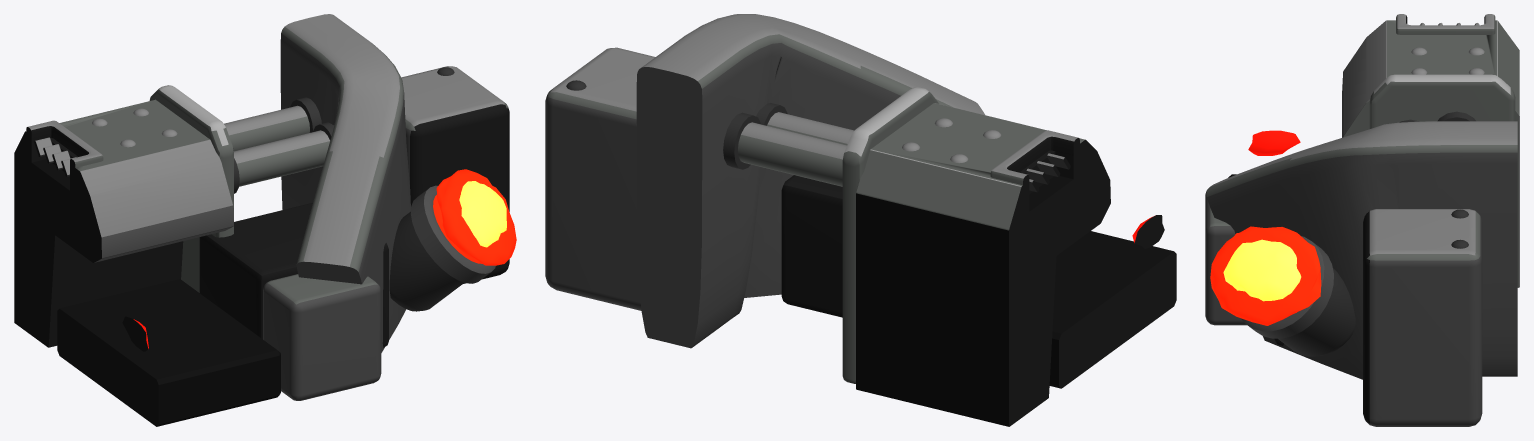
Rendered from jaw_gun_a_right_235.glb.
3 renders of one model, left to right at view 1: azimuth 30°, elevation 25°; view 2: azimuth 150°, elevation 25°; view 3: azimuth 270°, elevation 25°, orthographic. The views are drawn at different scales.
Visible parts, largest first — view 1: upper_jaw.001, bracket.001, mouth_floor.001, bracket_foot.001, pod.001, base.001, barrel.001, flange.001, flare0.001, rod1.001, rod0.001, flare1.001 (+3 smaller); view 2: upper_jaw.001, bracket.001, pod.001, mouth_floor.001, base.001, flange.001, rod0.001, bezel.001, rod1.001, rod0_collar1.001, fireball0.001; view 3: bracket.001, pod.001, upper_jaw.001, flange.001, flare0.001, barrel.001, flare1.001, bracket_foot.001, bezel.001, fireball0.001.
Part boxes in pixels (x1,y1,x2,y2): upper_jaw.001: (14, 99, 233, 347); bracket.001: (280, 14, 410, 352); mouth_floor.001: (57, 279, 280, 426); bracket_foot.001: (263, 274, 381, 400); pod.001: (401, 66, 509, 283); base.001: (199, 203, 388, 347); barrel.001: (389, 185, 495, 311); flange.001: (149, 85, 233, 292); flare0.001: (436, 169, 516, 265); rod1.001: (234, 130, 329, 186); rod0.001: (224, 105, 309, 151); flare1.001: (459, 181, 506, 247); upper_jaw.001: (856, 103, 1110, 426); bracket.001: (636, 14, 984, 348); pod.001: (545, 47, 655, 310); mouth_floor.001: (1049, 231, 1176, 388); base.001: (781, 175, 842, 317); flange.001: (842, 87, 938, 383); rod0.001: (738, 122, 846, 186); bezel.001: (990, 130, 1079, 195); rod1.001: (767, 112, 854, 145); rod0_collar1.001: (723, 112, 760, 169); fireball0.001: (1132, 215, 1164, 248); bracket.001: (1206, 121, 1517, 379); pod.001: (1363, 209, 1482, 426); upper_jaw.001: (1342, 20, 1519, 287); flange.001: (1369, 74, 1515, 128); flare0.001: (1210, 226, 1321, 325); barrel.001: (1241, 236, 1355, 356); flare1.001: (1223, 239, 1301, 301); bracket_foot.001: (1205, 189, 1246, 325); bezel.001: (1396, 14, 1495, 34); fireball0.001: (1248, 130, 1300, 155).
Bounding box in the file's own units: 22.4 × 11.85 × 14.25.
